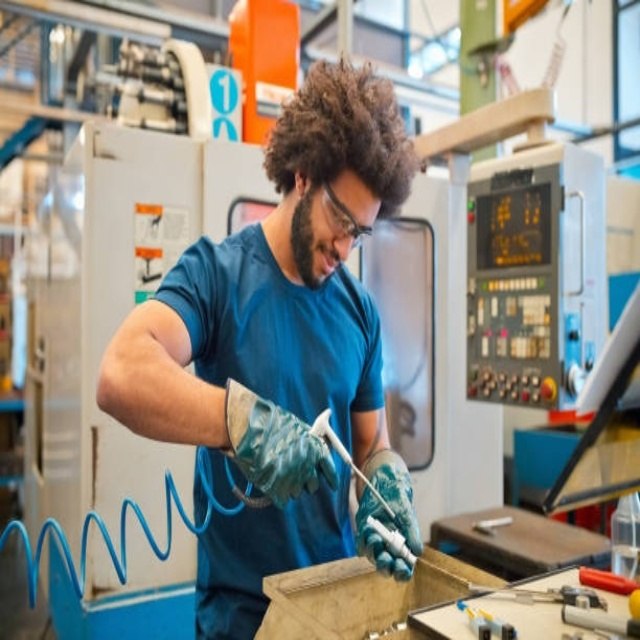Gafas: (322, 179, 374, 250)
Guantes: (225, 380, 338, 509), (355, 450, 423, 581)
Sin_mascara: (311, 242, 341, 287)
